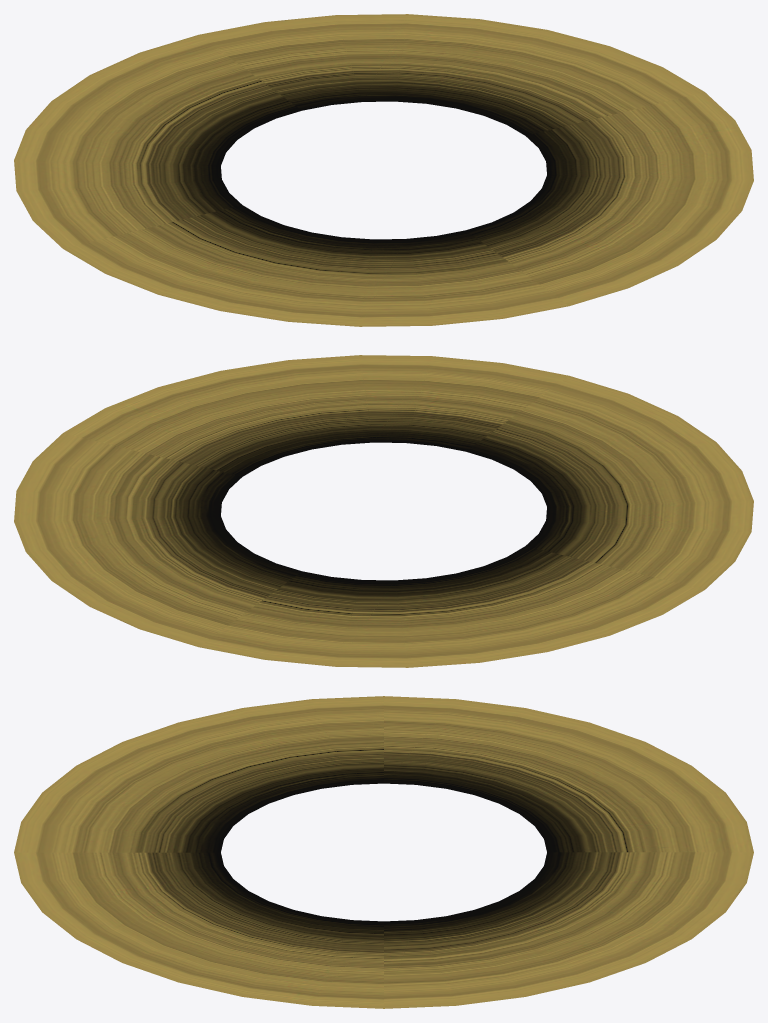
The model's file is ringPlanetRings.glb.
3 views of the same model, one above another, from view 1: azimuth 30°, elevation 25°; view 2: azimuth 150°, elevation 25°; view 3: azimuth 270°, elevation 25° (orthographic).
Visible parts, largest first — view 1: Rings; view 2: Rings; view 3: Rings.
Part boxes in pixels (x1=…): Rings: x1=14, y1=14, x2=753, y2=326; Rings: x1=14, y1=355, x2=753, y2=667; Rings: x1=14, y1=696, x2=753, y2=1008.
Size of the model in its own units: 6.03 by 0 by 6.03.
Materials: 1 (1 with a texture image).
